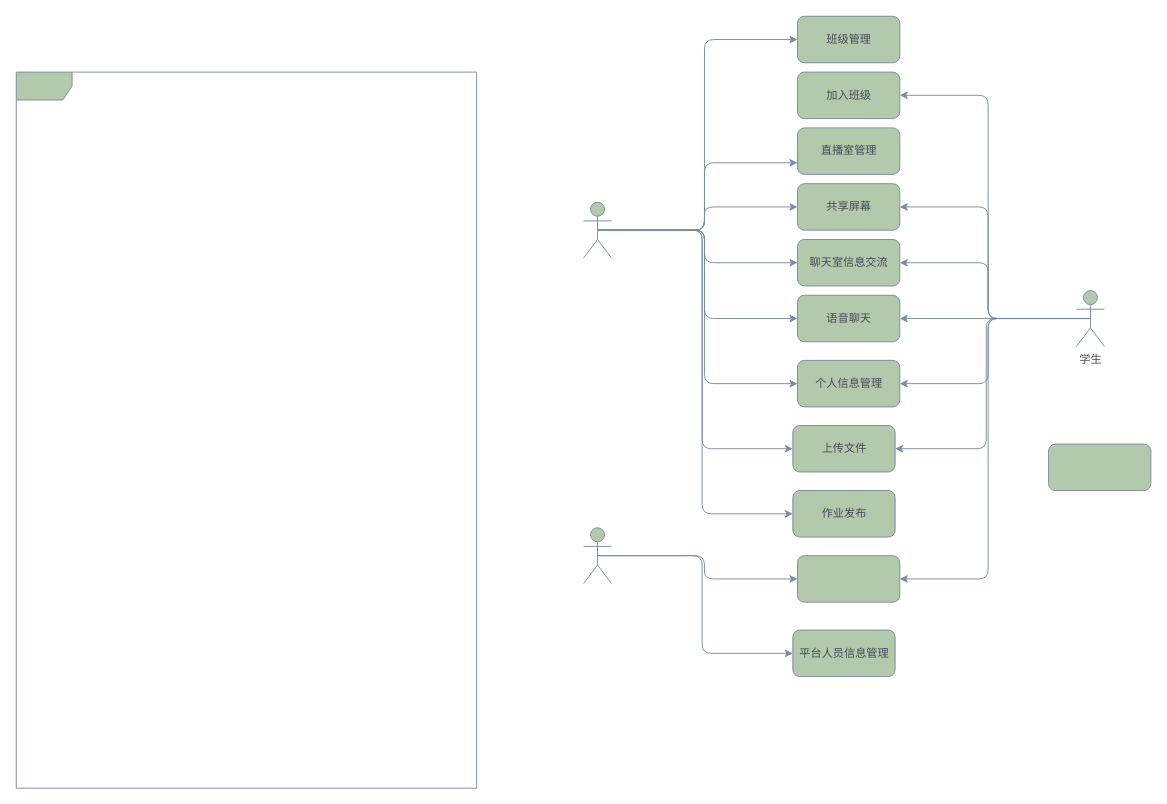
The diagram is 1167 pixels wide and 804 high, and some of its shapes have lost their labels. The shapes that lost their labels are listed below. From the top down, each one's centre as x and y in pixels, then its label:
At (597,229): "教师".
At (246,429): "用例".
At (1099,467): "登录注册页面".
At (597,555): "管理员".
At (848,578): "加入直播室".
